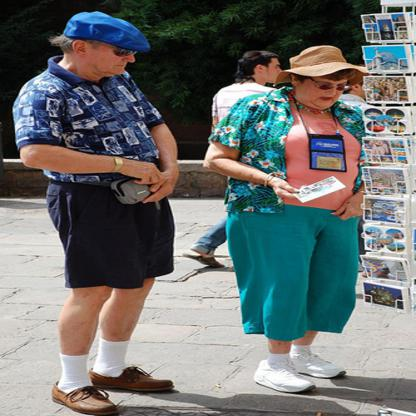face: (82, 35, 138, 80), (306, 68, 348, 110), (256, 54, 284, 88)
